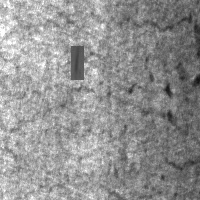crazing: (4, 80, 95, 192), (42, 7, 200, 65), (138, 48, 192, 173)
inclusion: (71, 46, 84, 80)
